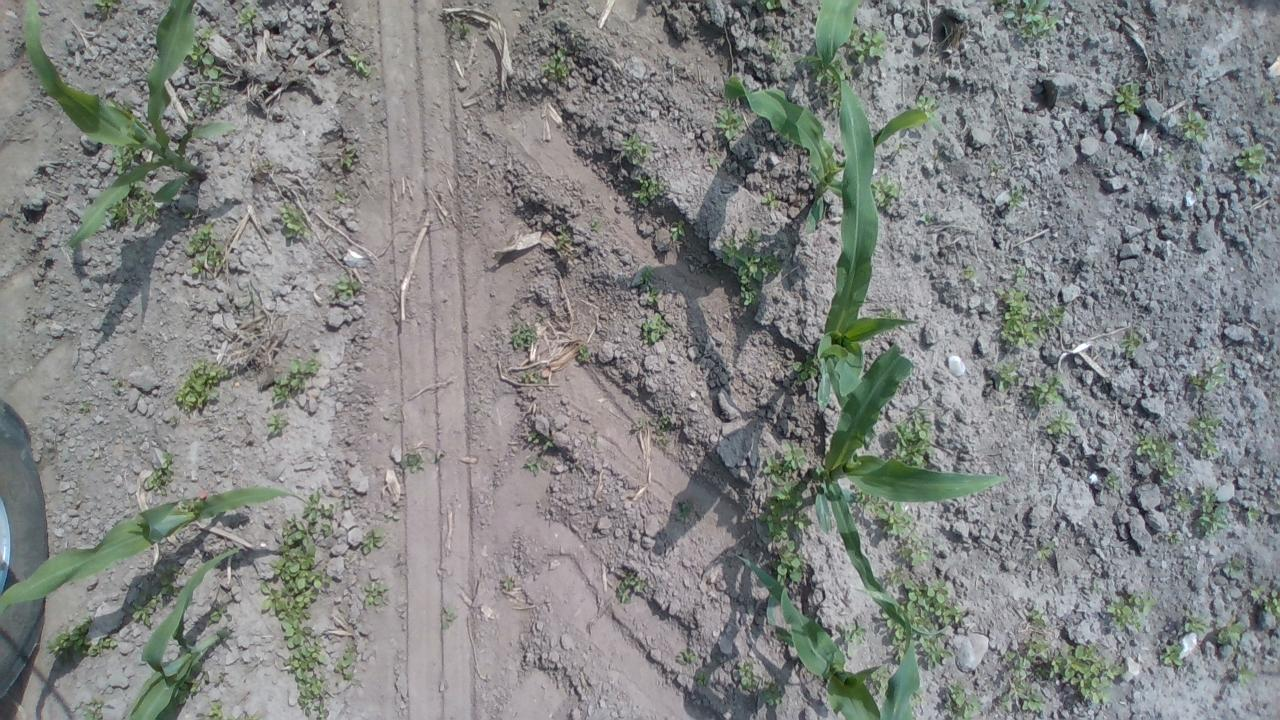Maize: (812, 343, 1014, 638), (21, 1, 210, 246), (0, 484, 315, 612), (812, 66, 922, 410), (720, 75, 946, 231), (726, 550, 922, 720), (125, 548, 242, 718), (792, 0, 866, 87)
Weeds: (262, 494, 332, 714), (758, 442, 816, 590), (877, 577, 961, 664), (848, 489, 932, 566), (110, 103, 160, 232), (996, 266, 1070, 352), (1002, 615, 1056, 710), (713, 228, 777, 303), (1052, 643, 1118, 702), (182, 30, 230, 109), (1167, 486, 1232, 541), (876, 411, 932, 472), (130, 564, 180, 628), (266, 358, 321, 408), (44, 616, 107, 656), (998, 1, 1063, 38), (732, 665, 781, 710), (177, 362, 219, 411), (1135, 440, 1178, 476), (1234, 143, 1272, 183), (142, 450, 176, 494), (1188, 416, 1222, 458), (1032, 372, 1064, 413), (188, 226, 216, 272), (1104, 594, 1150, 622), (946, 686, 986, 718), (1112, 81, 1148, 116), (712, 106, 744, 143), (869, 176, 900, 212), (620, 132, 652, 165), (333, 638, 356, 683), (630, 176, 661, 208), (856, 30, 888, 61), (331, 275, 362, 304), (342, 52, 374, 80), (1246, 590, 1280, 616), (1198, 362, 1230, 389), (362, 582, 391, 609), (1180, 114, 1206, 144), (1039, 416, 1071, 440), (281, 210, 305, 242), (546, 51, 574, 78), (837, 620, 864, 647), (994, 363, 1016, 395), (522, 453, 552, 476), (617, 574, 640, 604), (357, 530, 383, 556), (641, 315, 664, 344), (1217, 624, 1250, 643), (792, 356, 819, 378), (1158, 643, 1185, 665), (508, 326, 532, 349), (265, 416, 287, 440), (443, 602, 458, 637), (676, 651, 704, 669), (668, 220, 687, 246), (401, 456, 425, 476), (233, 7, 255, 26), (1236, 664, 1255, 686), (84, 1, 120, 12), (1180, 622, 1206, 636), (1125, 332, 1140, 356), (1036, 541, 1054, 560), (918, 92, 936, 111), (80, 706, 104, 720), (553, 228, 568, 250), (1104, 476, 1122, 494), (646, 288, 662, 308), (205, 703, 222, 720), (1006, 190, 1021, 209), (1246, 509, 1262, 523)
